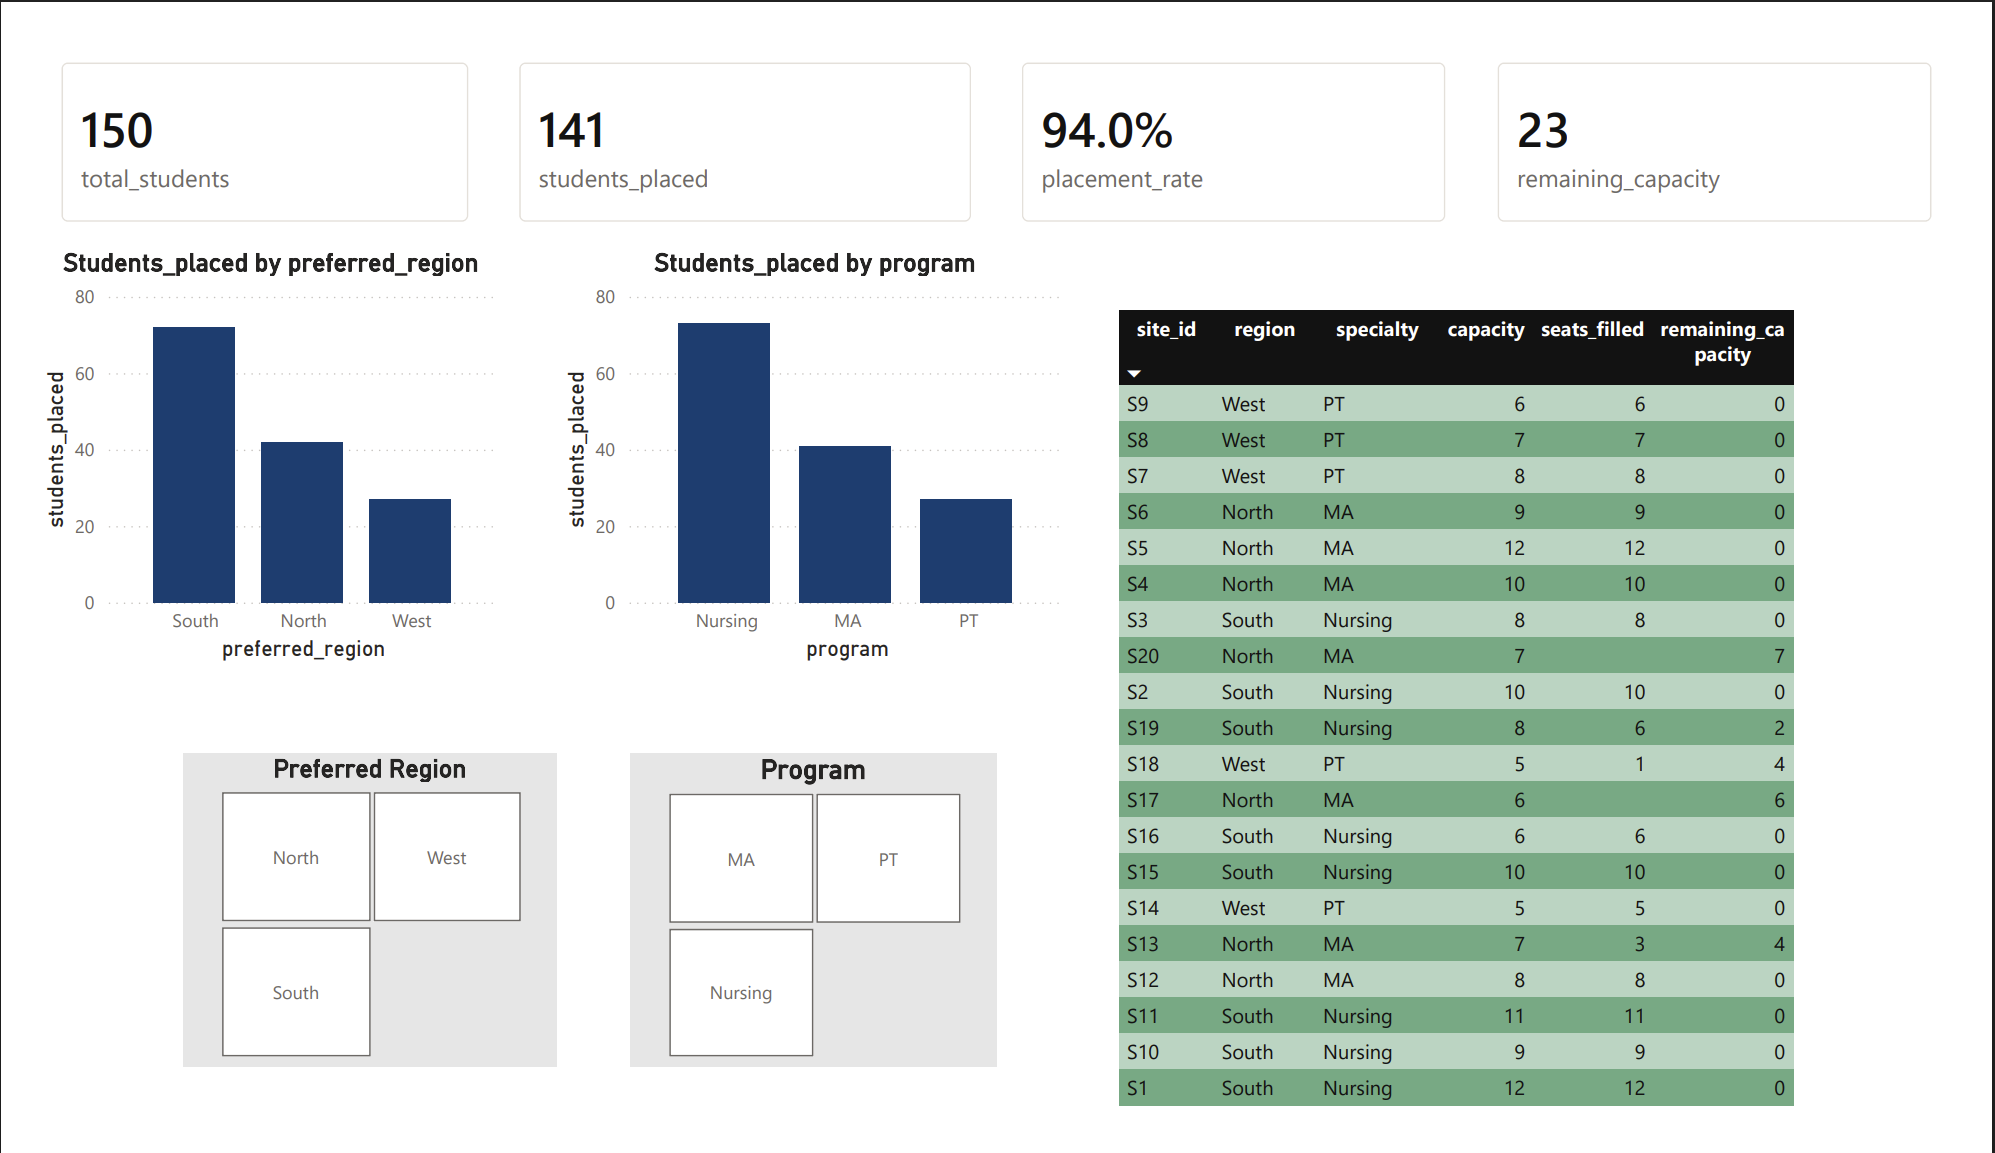

What the dashboard file says about the page in this screenshot:
{"tool":"powerbi","page":{"name":"Page 1","canvas":[1280,720],"ordinal":0},"visuals":[{"type":"cardVisual","fields":{"Data":["placements.total_students"]},"box":[0,0,305,140],"z":0},{"type":"cardVisual","fields":{"Data":["placements.placement_rate"]},"box":[640,0,316.7,140],"z":1000},{"type":"cardVisual","fields":{"Data":["placements.remaining_capacity"]},"box":[956.7,0,323.3,140],"z":2000},{"type":"cardVisual","fields":{"Data":["placements.students_placed"]},"box":[305,0,335,140],"z":3000},{"type":"clusteredColumnChart","title":"Students_placed by preferred_region","fields":{"Category":["students.preferred_region"],"Y":["placements.students_placed"]},"box":[0,140,313.3,280],"z":4000},{"type":"clusteredColumnChart","title":"Students_placed by program","fields":{"Category":["students.program"],"Y":["placements.students_placed"]},"box":[346.7,140,344.4,280],"z":5000},{"type":"tableEx","fields":{"Values":["sites.site_id","sites.region","sites.specialty","sites.capacity","placements.seats_filled","placements.remaining_capacity"]},"box":[715.6,176.7,482.2,543.3],"z":6000},{"type":"slicer","title":"Program","fields":{"Values":["students.program"]},"box":[395.6,476.7,244.4,208.9],"z":7000},{"type":"slicer","title":"Preferred Region","fields":{"Values":["students.preferred_region"]},"box":[97.8,476.7,248.9,208.9],"z":8000}]}

Visuals, with their boxes in screenshot pixels (x1, y1, x2, y2), scaled from the page's 1280x720 canvas onto the 1995x1153 screenshot:
cardVisual - placements.total_students: rect(0, 0, 475, 224)
cardVisual - placements.placement_rate: rect(998, 0, 1491, 224)
cardVisual - placements.remaining_capacity: rect(1491, 0, 1994, 224)
cardVisual - placements.students_placed: rect(475, 0, 998, 224)
"Students_placed by preferred_region" clusteredColumnChart: rect(0, 224, 488, 673)
"Students_placed by program" clusteredColumnChart: rect(540, 224, 1077, 673)
tableEx - sites.site_id x sites.region: rect(1115, 283, 1867, 1152)
"Program" slicer: rect(617, 763, 998, 1098)
"Preferred Region" slicer: rect(152, 763, 540, 1098)
